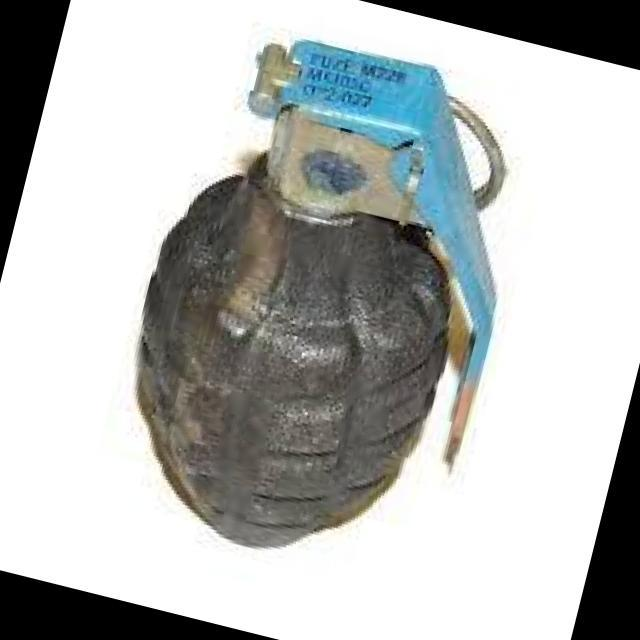grenade: (88, 4, 566, 592)
